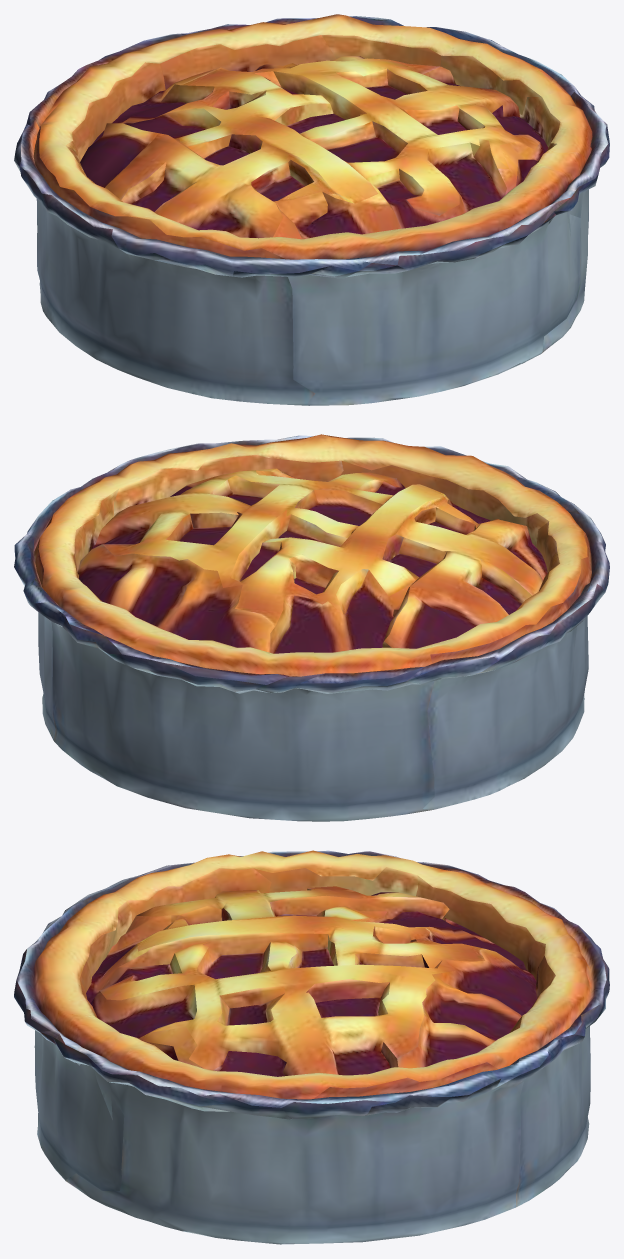
Rendered from pie.glb.
3 views of the same model, one above another, from view 1: azimuth 30°, elevation 25°; view 2: azimuth 150°, elevation 25°; view 3: azimuth 270°, elevation 25° (orthographic).
Parts seen in each view (by area): view 1: item_pie; view 2: item_pie; view 3: item_pie.
Part boxes in pixels (x1,y1,x2,y2): item_pie: (14,14,609,405); item_pie: (14,434,609,821); item_pie: (14,850,609,1244).
Size of the model in its own units: 1 by 0.3324 by 0.9883.
1 material, 1 textured.
